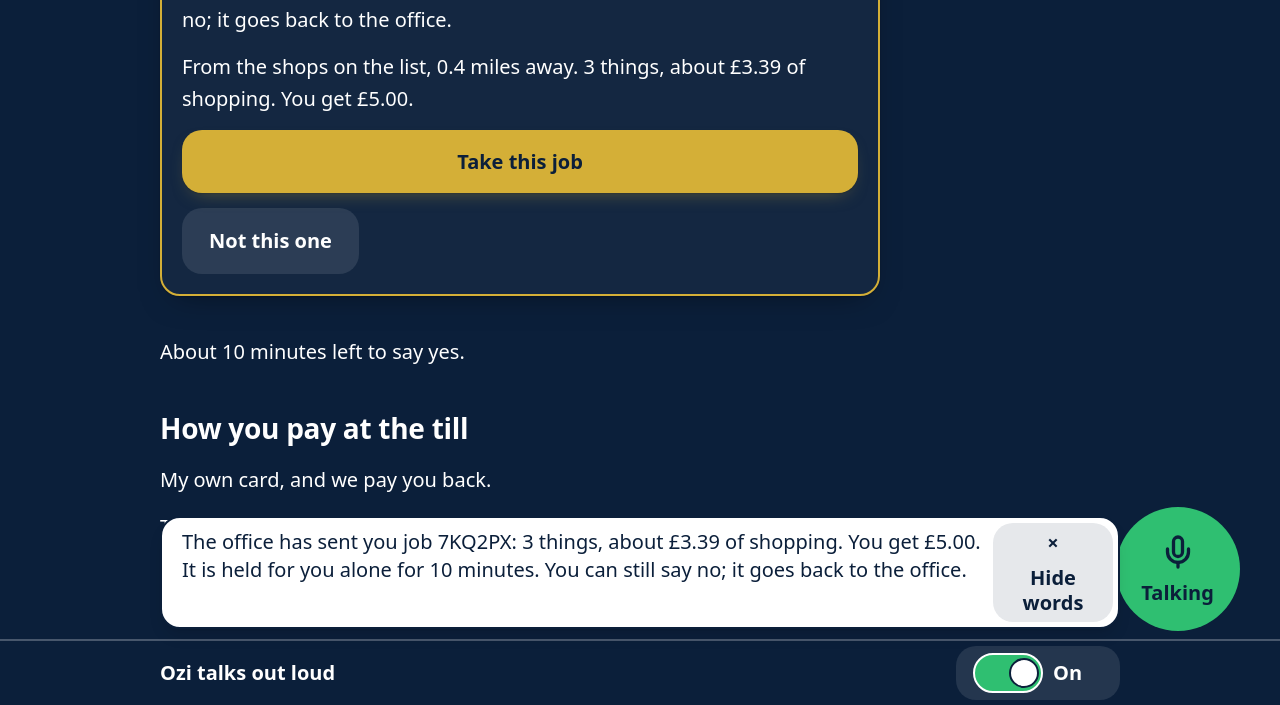
Test case: a Runner page › shows a job the office sent, even off shift, held ten minutes, and no sends it back (ruling 80)
This screenshot has width=1280, height=705.
(page scrolled)
Expected: the text "About 10 minutes left to say yes." is shown, [160,338,465,365]
Click the button "Not this one": (270, 241) [182,208,359,274]
(page scrolled)
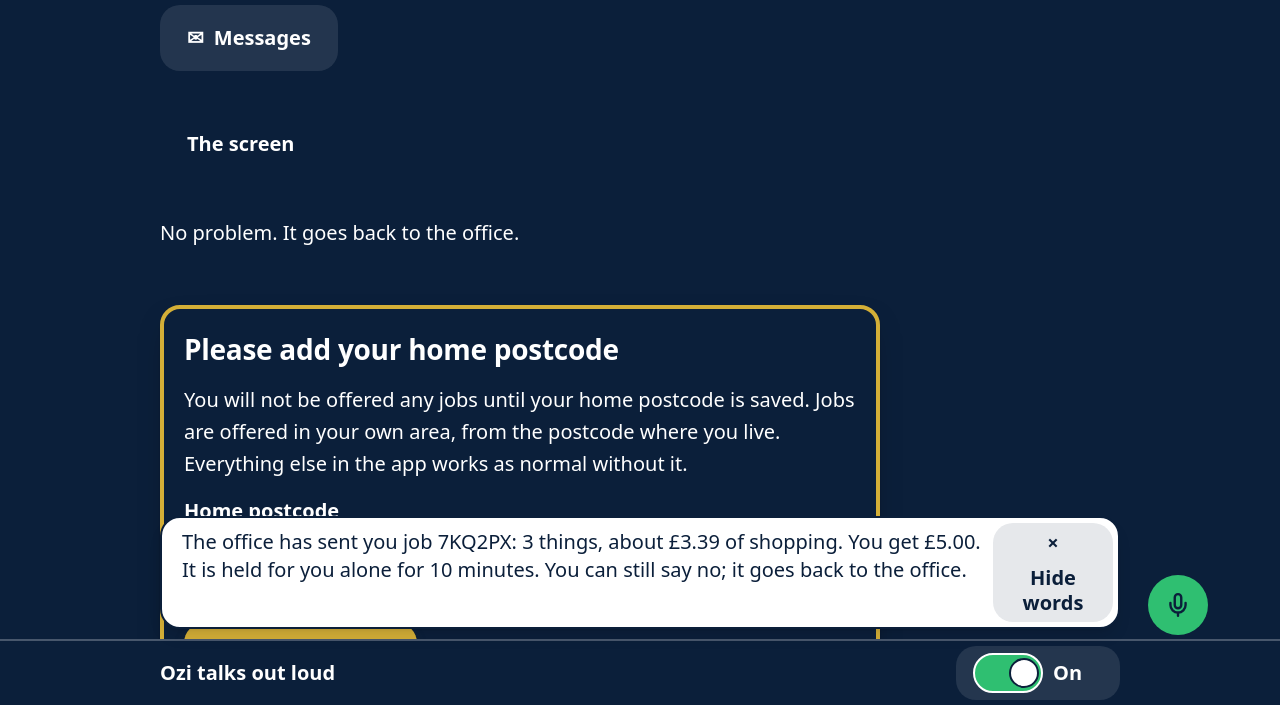
Expected: the text "No problem. It goes back to the office." is shown, [160,219,519,246]
